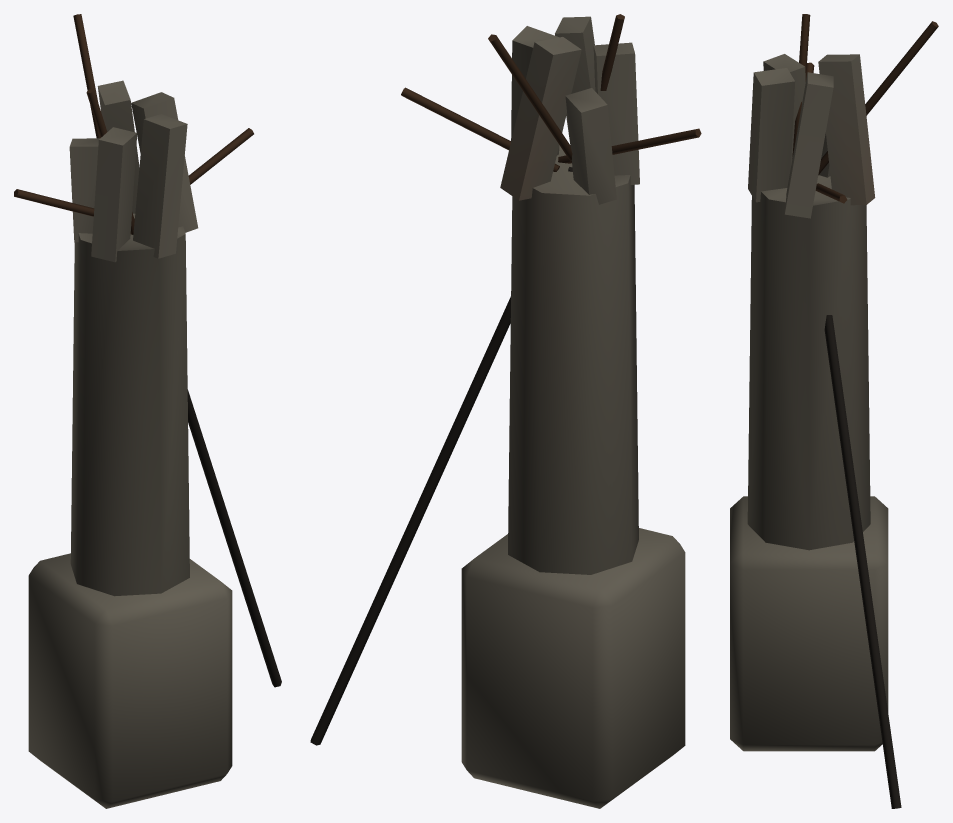
File: farola_mocha.glb
The picture shows the model from 3 angles, left to right: view 1: azimuth 30°, elevation 25°; view 2: azimuth 150°, elevation 25°; view 3: azimuth 270°, elevation 25°; orthographic projection. The views are drawn at different scales.
Parts seen in each view (by area): view 1: farola_mocha.001; view 2: farola_mocha.001; view 3: farola_mocha.001.
Part boxes in pixels (x1=…): farola_mocha.001: x1=14, y1=14, x2=281, y2=808; farola_mocha.001: x1=310, y1=14, x2=701, y2=808; farola_mocha.001: x1=730, y1=14, x2=938, y2=808.
Bounding box in the file's own units: 0.8134 × 1.77 × 0.4753.
